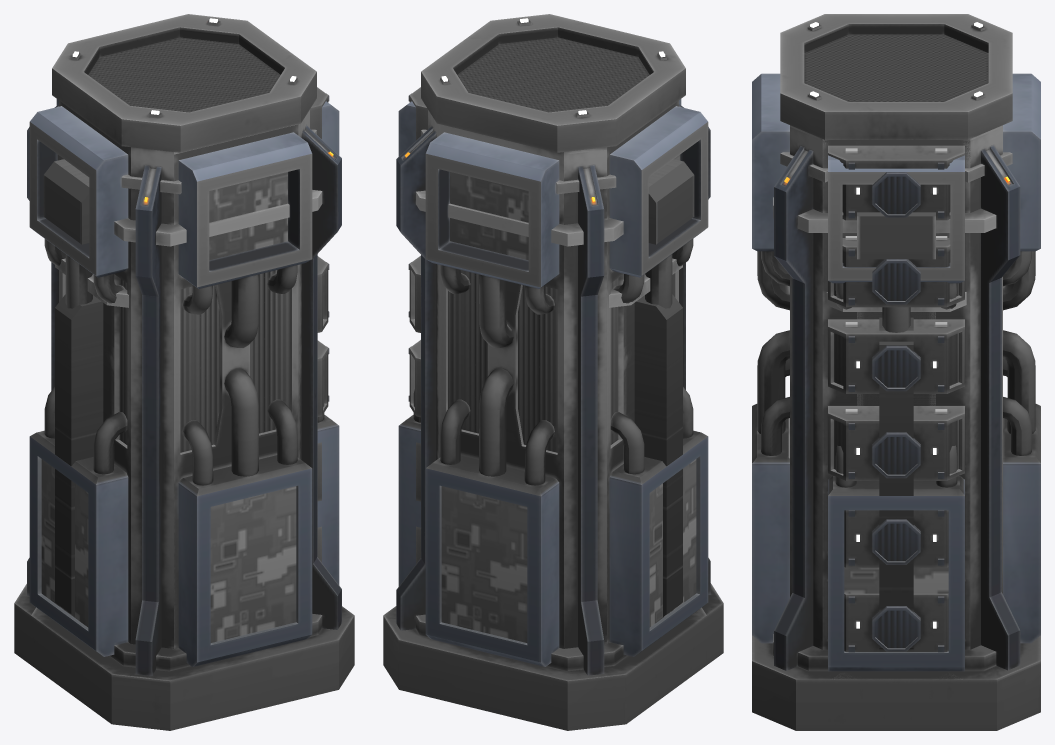
File: Wall.fbx
3 renders of one model, left to right at view 1: azimuth 30°, elevation 25°; view 2: azimuth 150°, elevation 25°; view 3: azimuth 270°, elevation 25°, orthographic. The views are drawn at different scales.
Visible parts, largest first — view 1: Wall.Tower, Wall, Gate; view 2: Wall.Tower, Wall, Gate; view 3: Wall.Tower, Gate, Wall.
Part boxes in pixels (left/top/right/bottom): Wall.Tower: left=14, top=14, right=354, bottom=730; Wall: left=31, top=159, right=128, bottom=711; Gate: left=27, top=87, right=329, bottom=593; Wall.Tower: left=383, top=14, right=723, bottom=730; Wall: left=609, top=159, right=706, bottom=711; Gate: left=408, top=87, right=603, bottom=674; Wall.Tower: left=752, top=14, right=1040, bottom=730; Gate: left=790, top=127, right=1035, bottom=652; Wall: left=826, top=212, right=966, bottom=730.
Size of the model in its own units: 2.03 by 4.65 by 1.99.
1 material, 1 textured.
